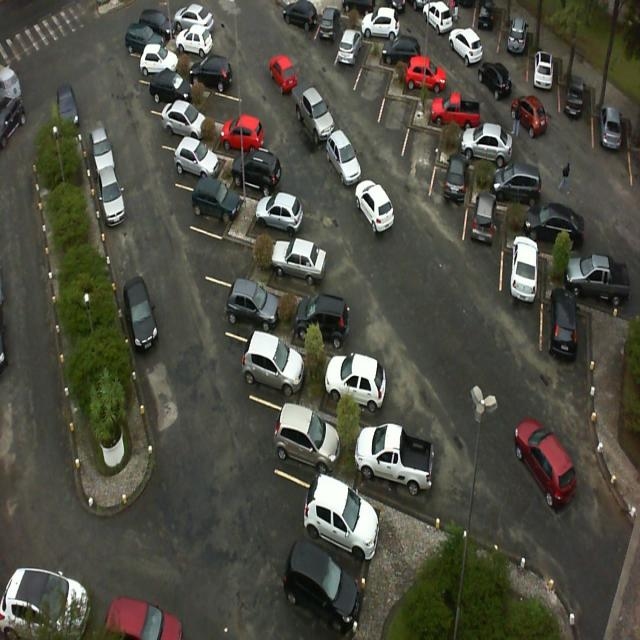car: (282, 540, 364, 634), (305, 472, 380, 559), (0, 565, 89, 637), (352, 422, 432, 494), (518, 417, 580, 508), (274, 403, 339, 472), (242, 330, 306, 398), (104, 590, 184, 640), (325, 351, 387, 412), (292, 296, 349, 356), (564, 255, 629, 303), (526, 198, 584, 249), (191, 175, 244, 226), (124, 273, 159, 350), (224, 278, 277, 328), (176, 135, 232, 178), (271, 236, 325, 280), (549, 285, 577, 368), (298, 89, 338, 147), (490, 163, 540, 209), (462, 121, 515, 164), (174, 3, 217, 56), (354, 181, 394, 236), (240, 147, 284, 196), (506, 238, 537, 306), (327, 128, 363, 185), (432, 89, 484, 128), (153, 102, 202, 142), (256, 192, 304, 232), (220, 115, 266, 154), (191, 55, 233, 95), (472, 186, 499, 247), (149, 69, 193, 106), (97, 168, 124, 228), (514, 94, 552, 136), (406, 56, 446, 94), (0, 93, 30, 143), (440, 157, 469, 208), (139, 43, 178, 79), (477, 64, 513, 101), (451, 26, 485, 64), (362, 6, 400, 39), (564, 70, 588, 122), (598, 105, 622, 157), (420, 0, 455, 35), (269, 56, 299, 96), (54, 83, 79, 131), (382, 39, 422, 68), (90, 123, 114, 170), (125, 23, 159, 56), (282, 0, 319, 30), (336, 29, 361, 66), (317, 5, 342, 42), (506, 12, 527, 54), (532, 51, 554, 90), (140, 8, 170, 34), (476, 0, 498, 34), (0, 62, 19, 101)
